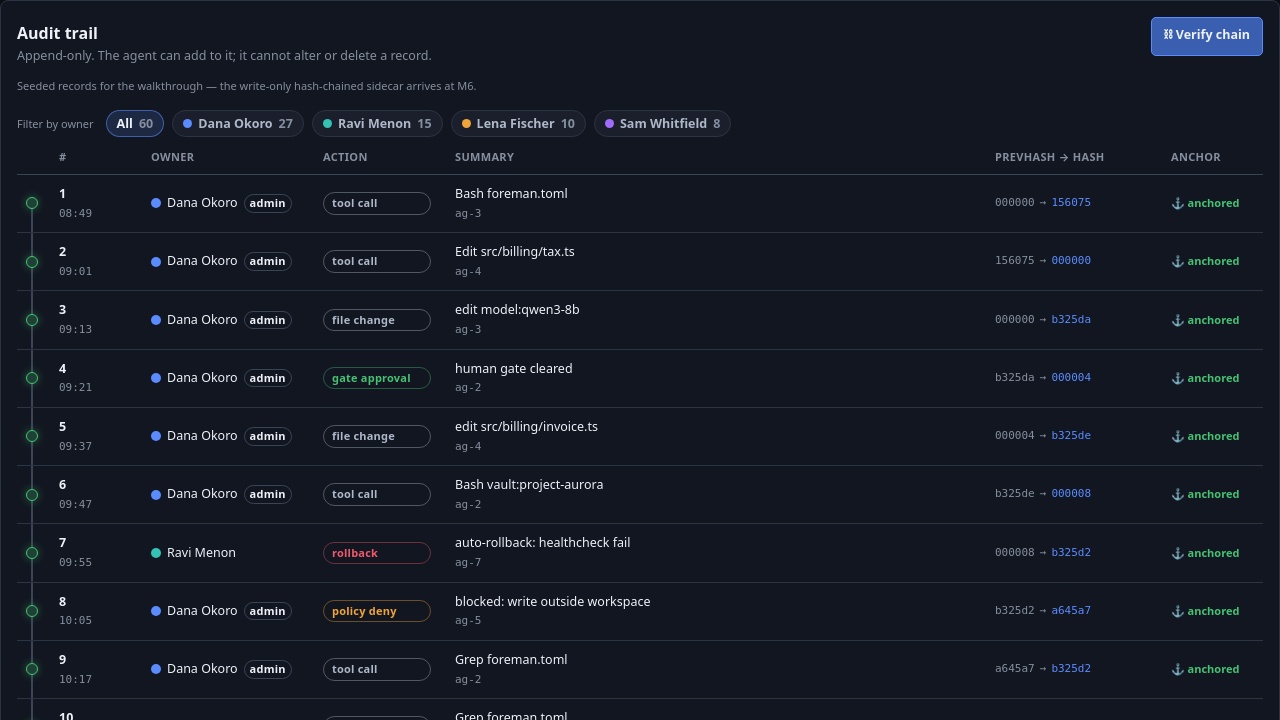
Test: AuditSection › narrows the view with the owner filter without changing the record set
Click the button "Dana Okoro 27" at (238, 124), box [172,110,304,137]
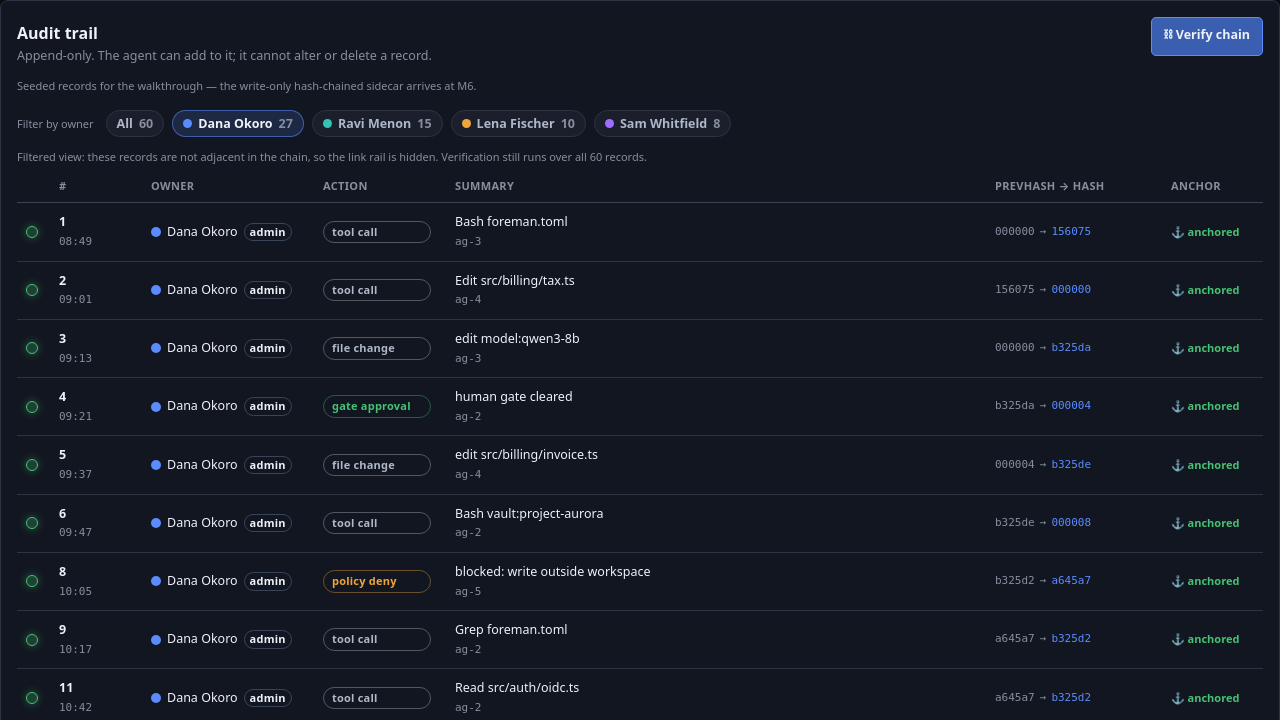
Expected: the number of rows with class "ops-audit-row" is 27
Expected: the text "these records are not adjacent in the chain" is shown, [17,149,590,164]
Back to all.
Click the button "All 60" at (135, 124), box [106,110,164,137]
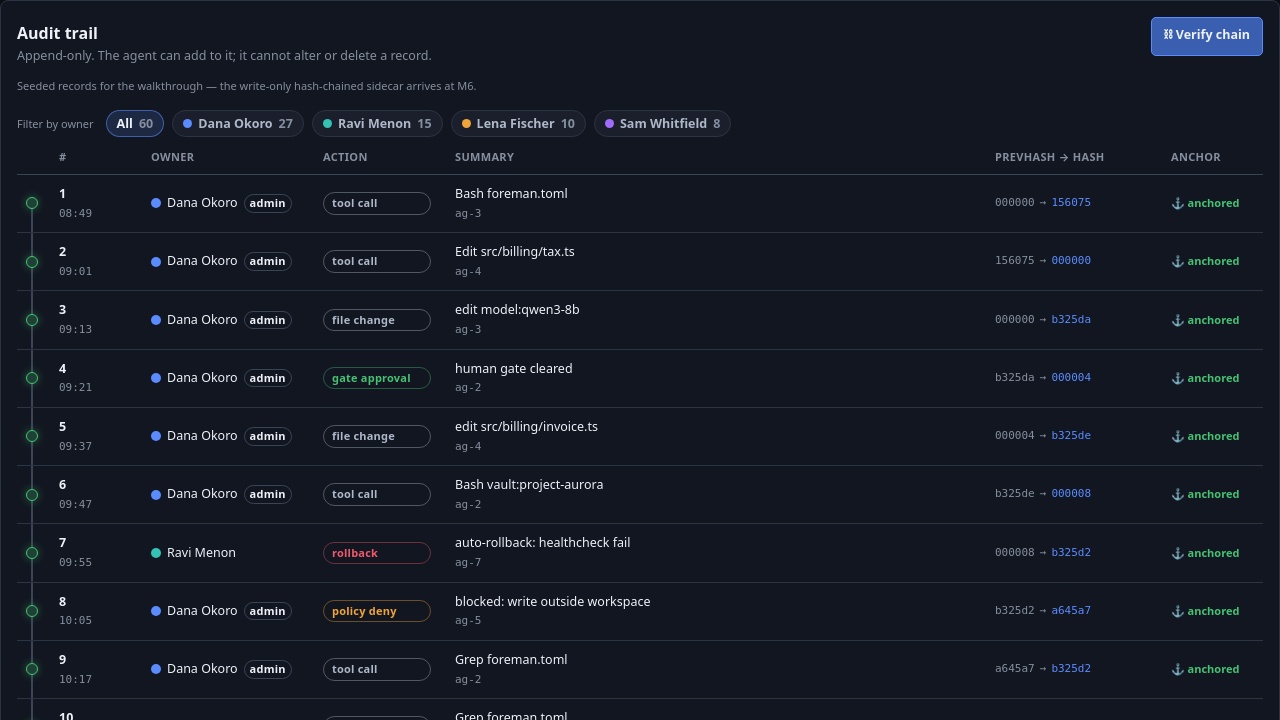
Expected: the number of rows with class "ops-audit-row" is 60
Expected: the text "Filtered view:" is gone
